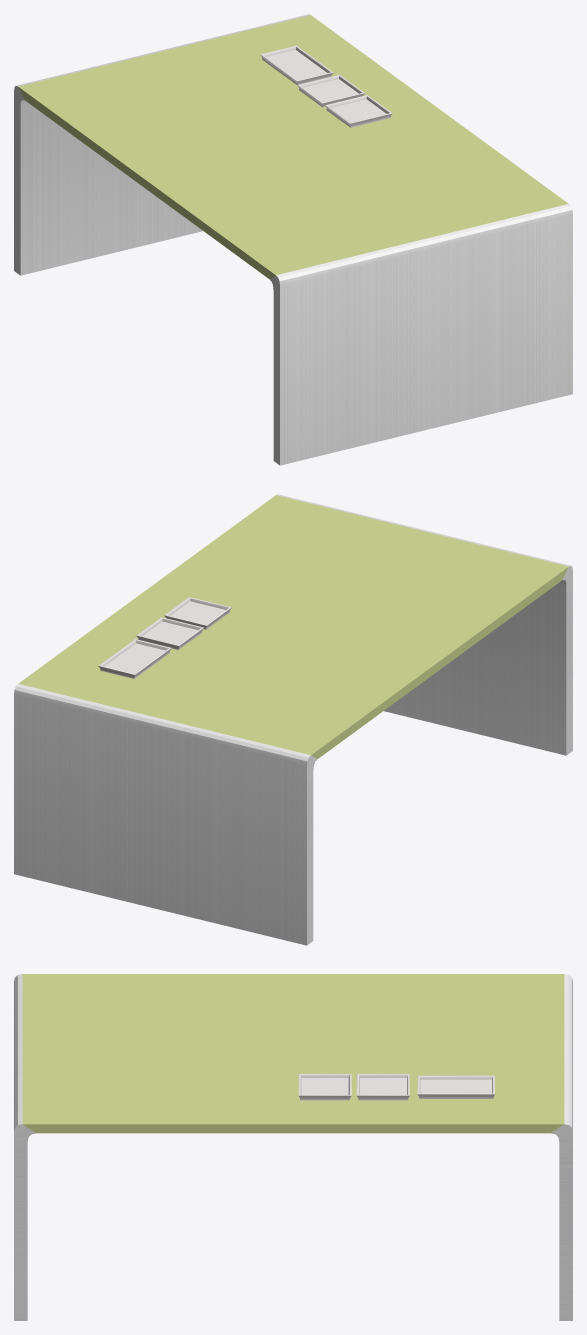
The model's file is SofaTable.fbx.
The picture shows the model from 3 angles, top to bottom: view 1: azimuth 30°, elevation 25°; view 2: azimuth 150°, elevation 25°; view 3: azimuth 270°, elevation 25°; orthographic projection. The views are drawn at different scales.
Parts seen in each view (by area): view 1: TableBase001, TableGlass, Box004, Box002, Box005; view 2: TableBase001, TableGlass, Box004, Box005, Box002; view 3: TableGlass, TableBase001, Box004, Box005, Box002.
Boxes of the visible parts, bbox=[...] form: TableBase001: bbox=[14, 14, 572, 465]; TableGlass: bbox=[18, 15, 568, 278]; Box004: bbox=[260, 45, 333, 84]; Box002: bbox=[325, 95, 392, 127]; Box005: bbox=[297, 74, 364, 107]; TableBase001: bbox=[14, 494, 572, 945]; TableGlass: bbox=[18, 495, 568, 758]; Box004: bbox=[98, 639, 171, 678]; Box005: bbox=[136, 617, 203, 649]; Box002: bbox=[164, 597, 231, 629]; TableGlass: bbox=[22, 974, 564, 1133]; TableBase001: bbox=[14, 974, 572, 1320]; Box004: bbox=[417, 1075, 494, 1098]; Box005: bbox=[356, 1074, 409, 1100]; Box002: bbox=[298, 1074, 351, 1100].
Bounding box in the file's own units: 29.53 × 46.46 × 18.57.
Materials: 3 (2 with a texture image).
